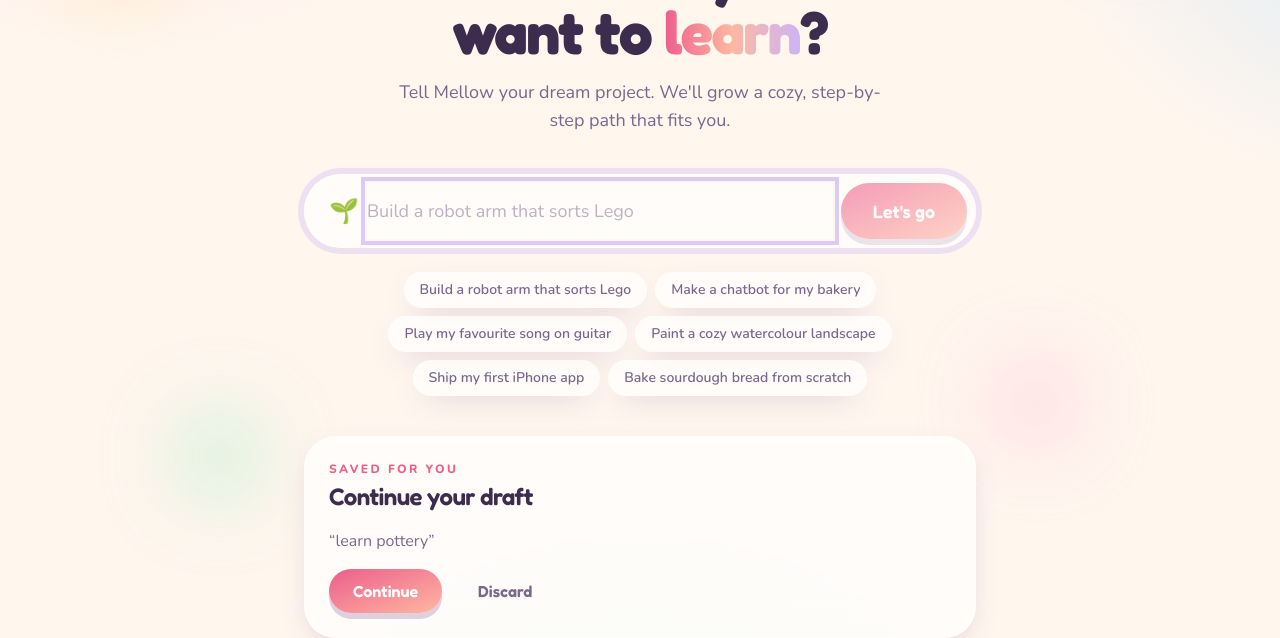
Test: goal drafts › offers to continue or discard the draft on the landing page
(page scrolled)
Expected: the element "Continue your draft" shows "learn pottery", [336, 530, 428, 552]
Step 1. Click the button "Discard" → point(505, 590), box [454, 568, 556, 612]
(page scrolled)
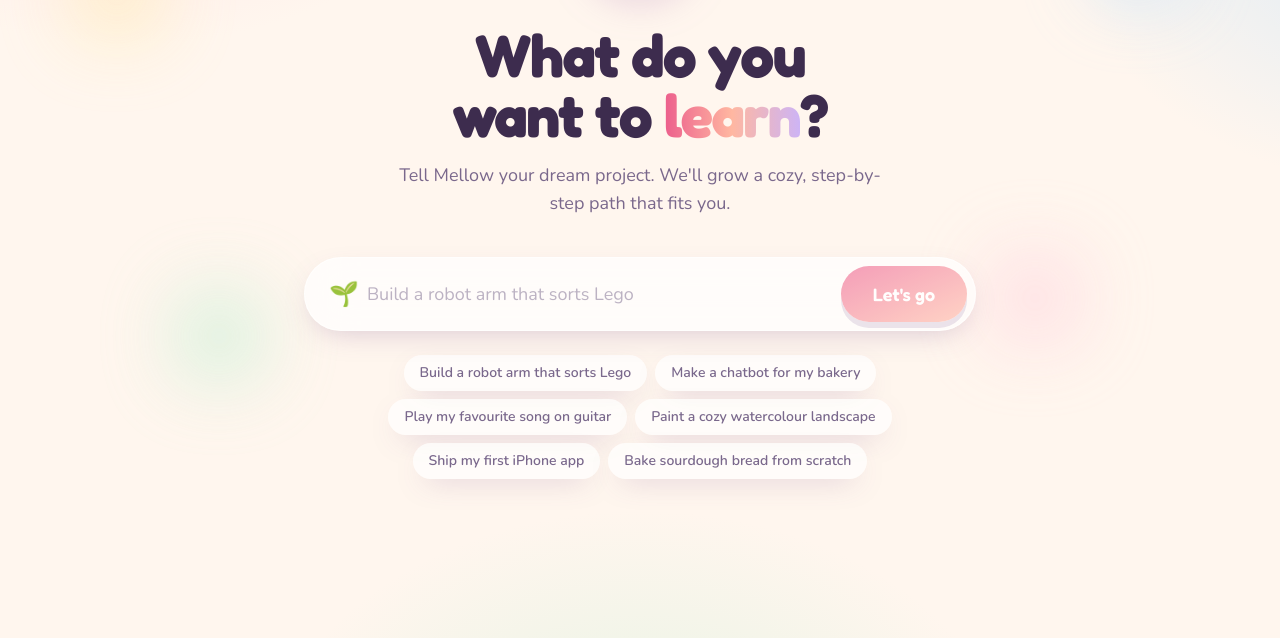
Expected: the heading "Continue your draft" is gone
